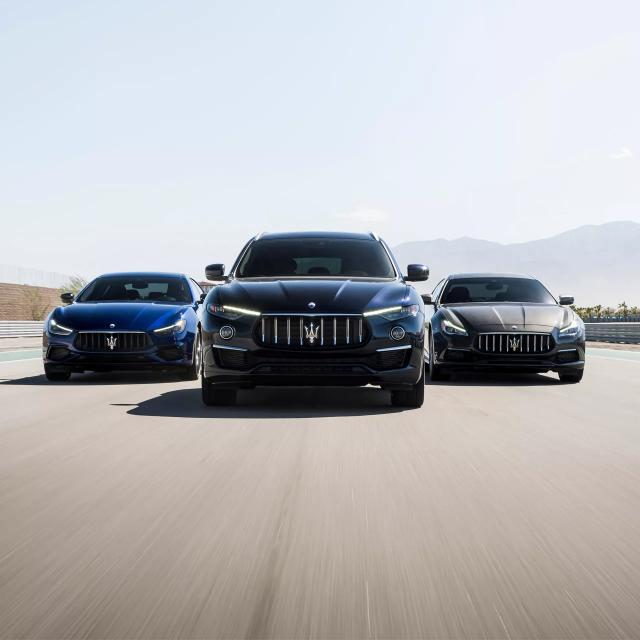car: (194, 232, 430, 416), (431, 274, 588, 387), (51, 270, 203, 378)
